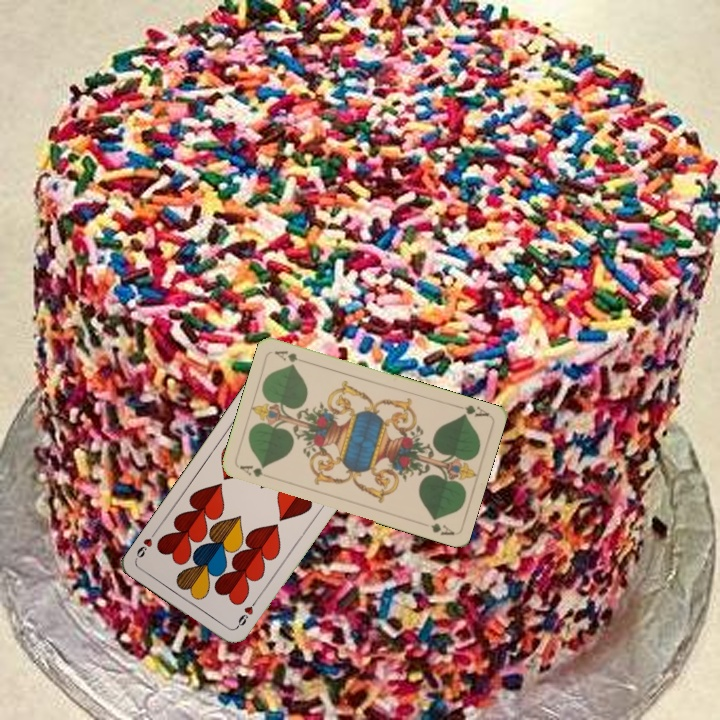GA: (451, 401, 492, 420), (235, 461, 267, 480)
H9: (232, 595, 260, 631)
